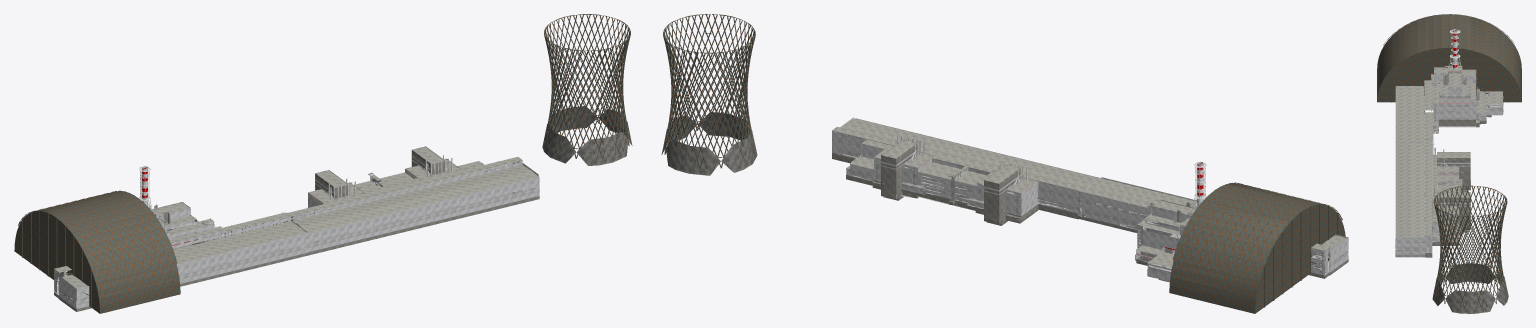
File: power_plant_lod.obj
3 renders of one model, left to right at view 1: azimuth 30°, elevation 25°; view 2: azimuth 150°, elevation 25°; view 3: azimuth 270°, elevation 25°, orthographic. The views are drawn at different scales.
Visible parts, largest first — view 1: NSC_Steel_Steel, CoolingTower_Steel_Steel, Block13T_Bitumen_Roof_Bitumen_Roof, CoolingTower_Concrete_Concrete, Block11T_Bitumen_Roof_Bitumen_Roof, Block05T_Bitumen_Roof_Bitumen_Roof, Block13T_PanelWhite0_PanelWhite0, Block05T_PanelWhite0_PanelWhite0, Block11T_PanelWhite0_PanelWhite0, Block11T_Gls_Gray_Gls_Gray, Block03T_Bitumen_Roof_Bitumen_Roof, Block13T_Gls_Gray_Gls_Gray (+3 smaller); view 2: NSC_Steel_Steel, CoolingTower_Steel_Steel, CoolingTower_Concrete_Concrete, Block11T_Bitumen_Roof_Bitumen_Roof, Block13T_Bitumen_Roof_Bitumen_Roof, Block10R_Bitumen_Wall_Bitumen_Wall, Block13R_Bitumen_Wall_Bitumen_Wall, Block05T_Bitumen_Roof_Bitumen_Roof, Block07T_PanelWhite0_PanelWhite0, Block04R_Bitumen_Roof_Bitumen_Roof, Block04R_PanelWhite0_PanelWhite0, Block08T_PanelWhite0_PanelWhite0 (+7 smaller); view 3: NSC_Steel_Steel, CoolingTower_Steel_Steel, CoolingTower_Concrete_Concrete, Block11T_Bitumen_Roof_Bitumen_Roof, Block13T_Bitumen_Roof_Bitumen_Roof, Block05T_Bitumen_Roof_Bitumen_Roof, Block05R_PanelWhite0_PanelWhite0, Block04R_Bitumen_Roof_Bitumen_Roof, Block03T_Bitumen_Roof_Bitumen_Roof, Block10R_Bitumen_Wall_Bitumen_Wall, Block05R_Bitumen_Roof_Bitumen_Roof, Block16T_PanelWhite0_PanelWhite0 (+20 smaller).
Boxes of the visible parts, box(x1,y1,x2,y2) form: NSC_Steel_Steel: box(14, 190, 180, 313); CoolingTower_Steel_Steel: box(544, 14, 630, 159); Block13T_Bitumen_Roof_Bitumen_Roof: box(296, 157, 538, 225); CoolingTower_Concrete_Concrete: box(542, 105, 632, 165); Block11T_Bitumen_Roof_Bitumen_Roof: box(287, 158, 530, 233); Block05T_Bitumen_Roof_Bitumen_Roof: box(64, 221, 306, 282); Block13T_PanelWhite0_PanelWhite0: box(306, 161, 539, 249); Block05T_PanelWhite0_PanelWhite0: box(84, 221, 307, 307); Block11T_PanelWhite0_PanelWhite0: box(293, 168, 533, 252); Block11T_Gls_Gray_Gls_Gray: box(308, 185, 525, 248); Block03T_Bitumen_Roof_Bitumen_Roof: box(62, 227, 295, 288); Block13T_Gls_Gray_Gls_Gray: box(326, 179, 539, 242); NSC_Steel_Steel: box(1169, 182, 1345, 313); CoolingTower_Steel_Steel: box(663, 14, 755, 168); CoolingTower_Concrete_Concrete: box(661, 112, 757, 175); Block11T_Bitumen_Roof_Bitumen_Roof: box(839, 119, 1099, 190); Block13T_Bitumen_Roof_Bitumen_Roof: box(832, 118, 1086, 185); Block10R_Bitumen_Wall_Bitumen_Wall: box(977, 164, 1020, 225); Block13R_Bitumen_Wall_Bitumen_Wall: box(881, 139, 925, 200); Block05T_Bitumen_Roof_Bitumen_Roof: box(1089, 178, 1334, 243); Block07T_PanelWhite0_PanelWhite0: box(1078, 178, 1144, 226); Block04R_Bitumen_Roof_Bitumen_Roof: box(1147, 201, 1196, 268); Block04R_PanelWhite0_PanelWhite0: box(1144, 207, 1194, 278); Block08T_PanelWhite0_PanelWhite0: box(1040, 177, 1103, 215); NSC_Steel_Steel: box(1377, 14, 1521, 102); CoolingTower_Steel_Steel: box(1433, 185, 1507, 308); CoolingTower_Concrete_Concrete: box(1432, 263, 1508, 313); Block11T_Bitumen_Roof_Bitumen_Roof: box(1395, 139, 1431, 236); Block13T_Bitumen_Roof_Bitumen_Roof: box(1395, 143, 1436, 238); Block05T_Bitumen_Roof_Bitumen_Roof: box(1395, 86, 1438, 142); Block05R_PanelWhite0_PanelWhite0: box(1439, 87, 1486, 120); Block04R_Bitumen_Roof_Bitumen_Roof: box(1431, 66, 1502, 103); Block03T_Bitumen_Roof_Bitumen_Roof: box(1395, 74, 1433, 141); Block10R_Bitumen_Wall_Bitumen_Wall: box(1437, 152, 1470, 191); Block05R_Bitumen_Roof_Bitumen_Roof: box(1434, 74, 1486, 122); Block16T_PanelWhite0_PanelWhite0: box(1395, 235, 1432, 254).
Bounding box in the file's own units: 413 × 76.97 × 103.
Materials: 26 (26 with a texture image).
